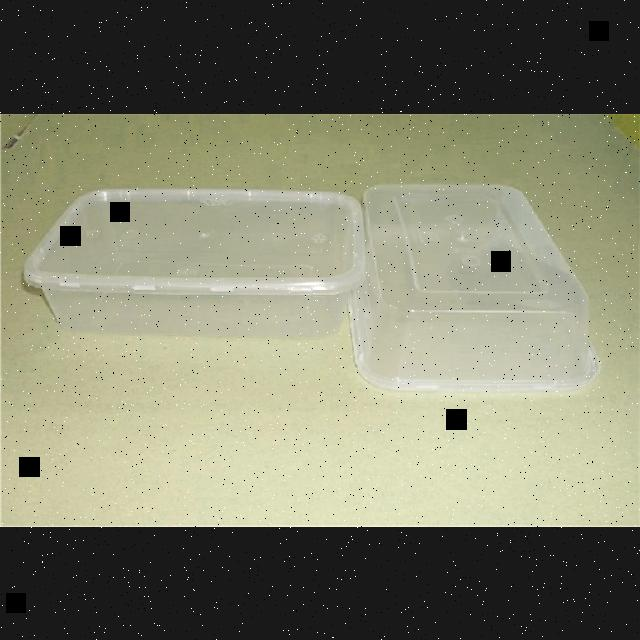plastic_box: (344, 178, 608, 394), (22, 185, 368, 338)
